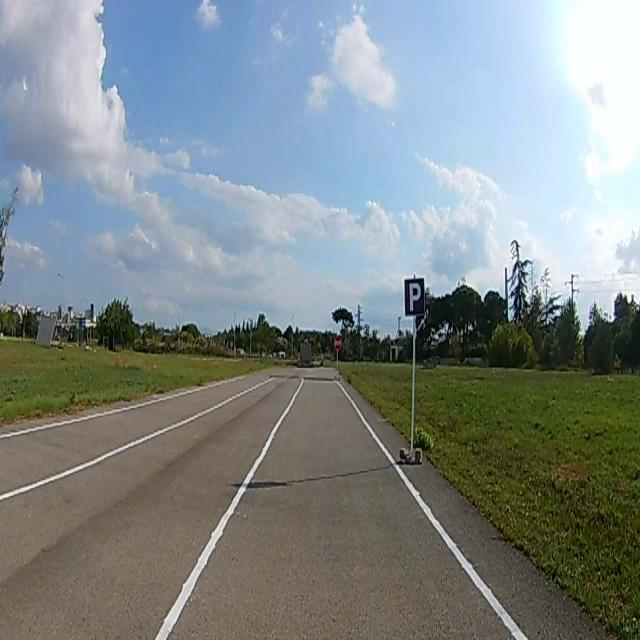park: (404, 278, 424, 316)
